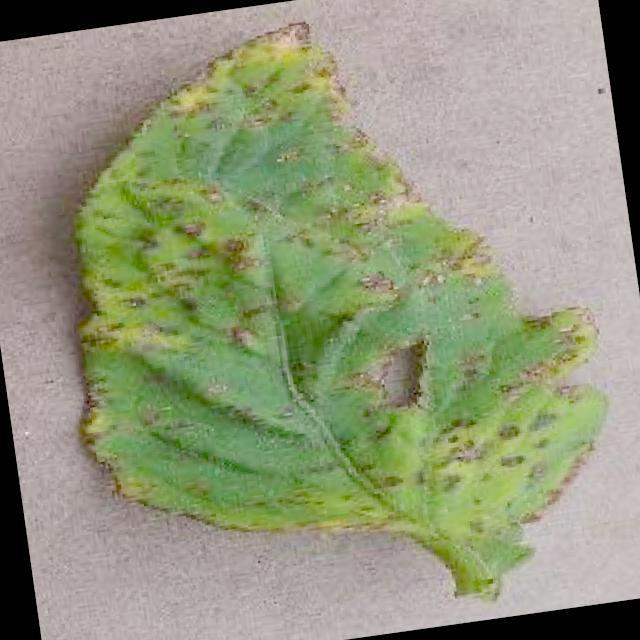Tomato bacterial spot leaf: (28, 0, 639, 627)
